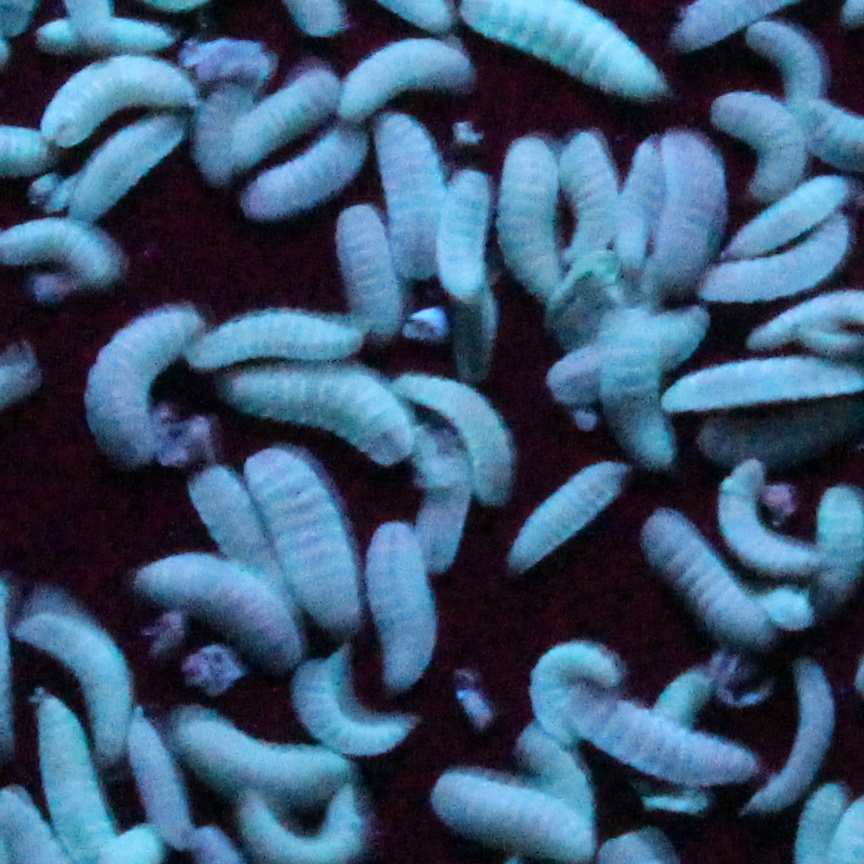larve: (552, 666, 764, 796), (247, 447, 361, 636), (8, 599, 136, 766), (131, 551, 307, 669), (222, 364, 419, 467), (184, 462, 305, 626), (84, 307, 207, 465), (546, 296, 714, 410), (179, 706, 356, 806), (389, 374, 519, 506), (748, 650, 844, 826), (646, 508, 772, 640), (352, 520, 446, 690), (34, 57, 206, 146), (65, 112, 189, 229), (512, 456, 634, 570), (604, 304, 682, 474), (240, 124, 376, 221), (718, 460, 832, 570), (494, 138, 566, 308), (186, 310, 369, 372), (299, 658, 414, 756), (232, 66, 339, 171), (662, 136, 732, 296), (604, 150, 672, 304), (714, 179, 849, 254), (129, 709, 201, 849), (706, 224, 854, 291), (532, 640, 624, 746), (334, 199, 399, 340), (719, 96, 811, 194), (562, 138, 626, 268), (419, 421, 472, 571), (749, 21, 831, 104), (650, 664, 710, 748), (198, 79, 247, 177), (39, 20, 178, 51)
